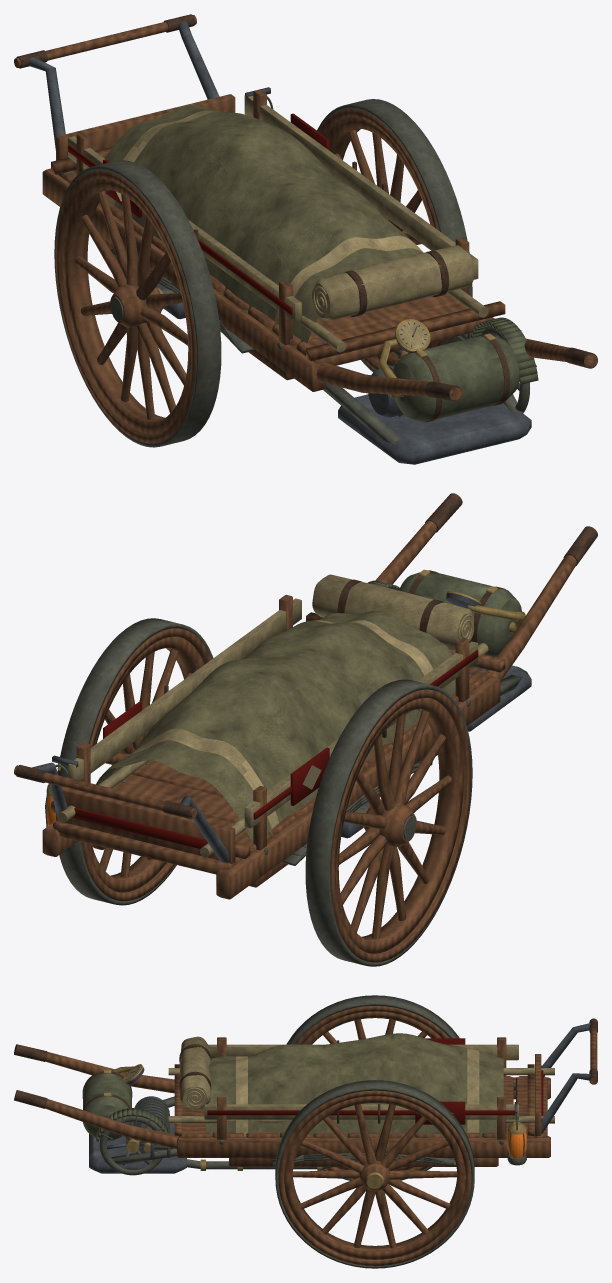
File: MercyCart.fbx
3 renders of one model, top to bottom at view 1: azimuth 30°, elevation 25°; view 2: azimuth 150°, elevation 25°; view 3: azimuth 270°, elevation 25°, orthographic. The views are drawn at different scales.
Visible parts, largest first — view 1: MercyCarriage, WheelLeftGeometry, WheelRightGeometry; view 2: MercyCarriage, WheelLeftGeometry, WheelRightGeometry; view 3: MercyCarriage, WheelRightGeometry, WheelLeftGeometry, DriveFlywheelGeometry.
Boxes of the visible parts, x1=… form: MercyCarriage: x1=14, y1=14, x2=597, y2=464; WheelLeftGeometry: x1=54, y1=160, x2=221, y2=447; WheelRightGeometry: x1=317, y1=99, x2=472, y2=371; MercyCarriage: x1=14, y1=493, x2=597, y2=899; WheelLeftGeometry: x1=305, y1=679, x2=472, y2=966; WheelRightGeometry: x1=57, y1=618, x2=213, y2=905; MercyCarriage: x1=14, y1=1018, x2=597, y2=1173; WheelRightGeometry: x1=275, y1=1080, x2=474, y2=1268; WheelLeftGeometry: x1=287, y1=995, x2=459, y2=1180; DriveFlywheelGeometry: x1=99, y1=1116, x2=162, y2=1175.
Size of the model in its own units: 1.15 by 0.9818 by 2.86.
